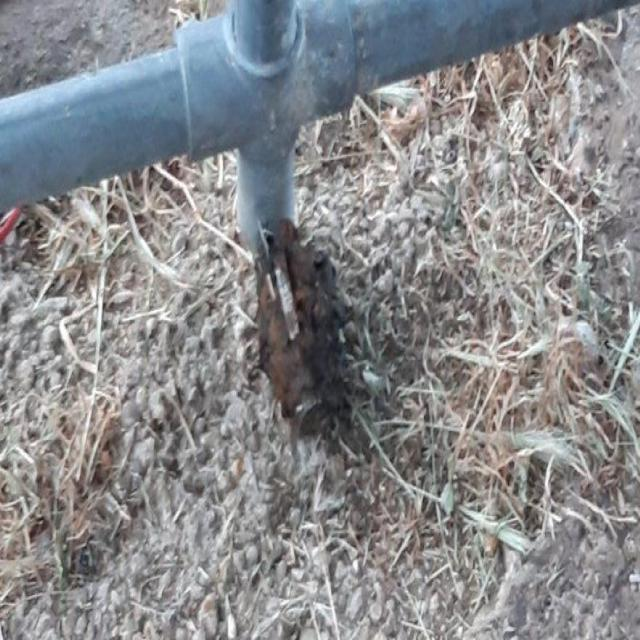grenade: (256, 218, 346, 441)
